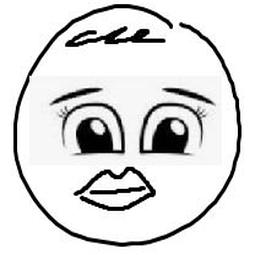cupid_mouth: (66, 160, 166, 216)
eye: (136, 100, 212, 163), (52, 101, 129, 159)
eyebrow: (162, 84, 219, 109), (51, 87, 106, 105)
